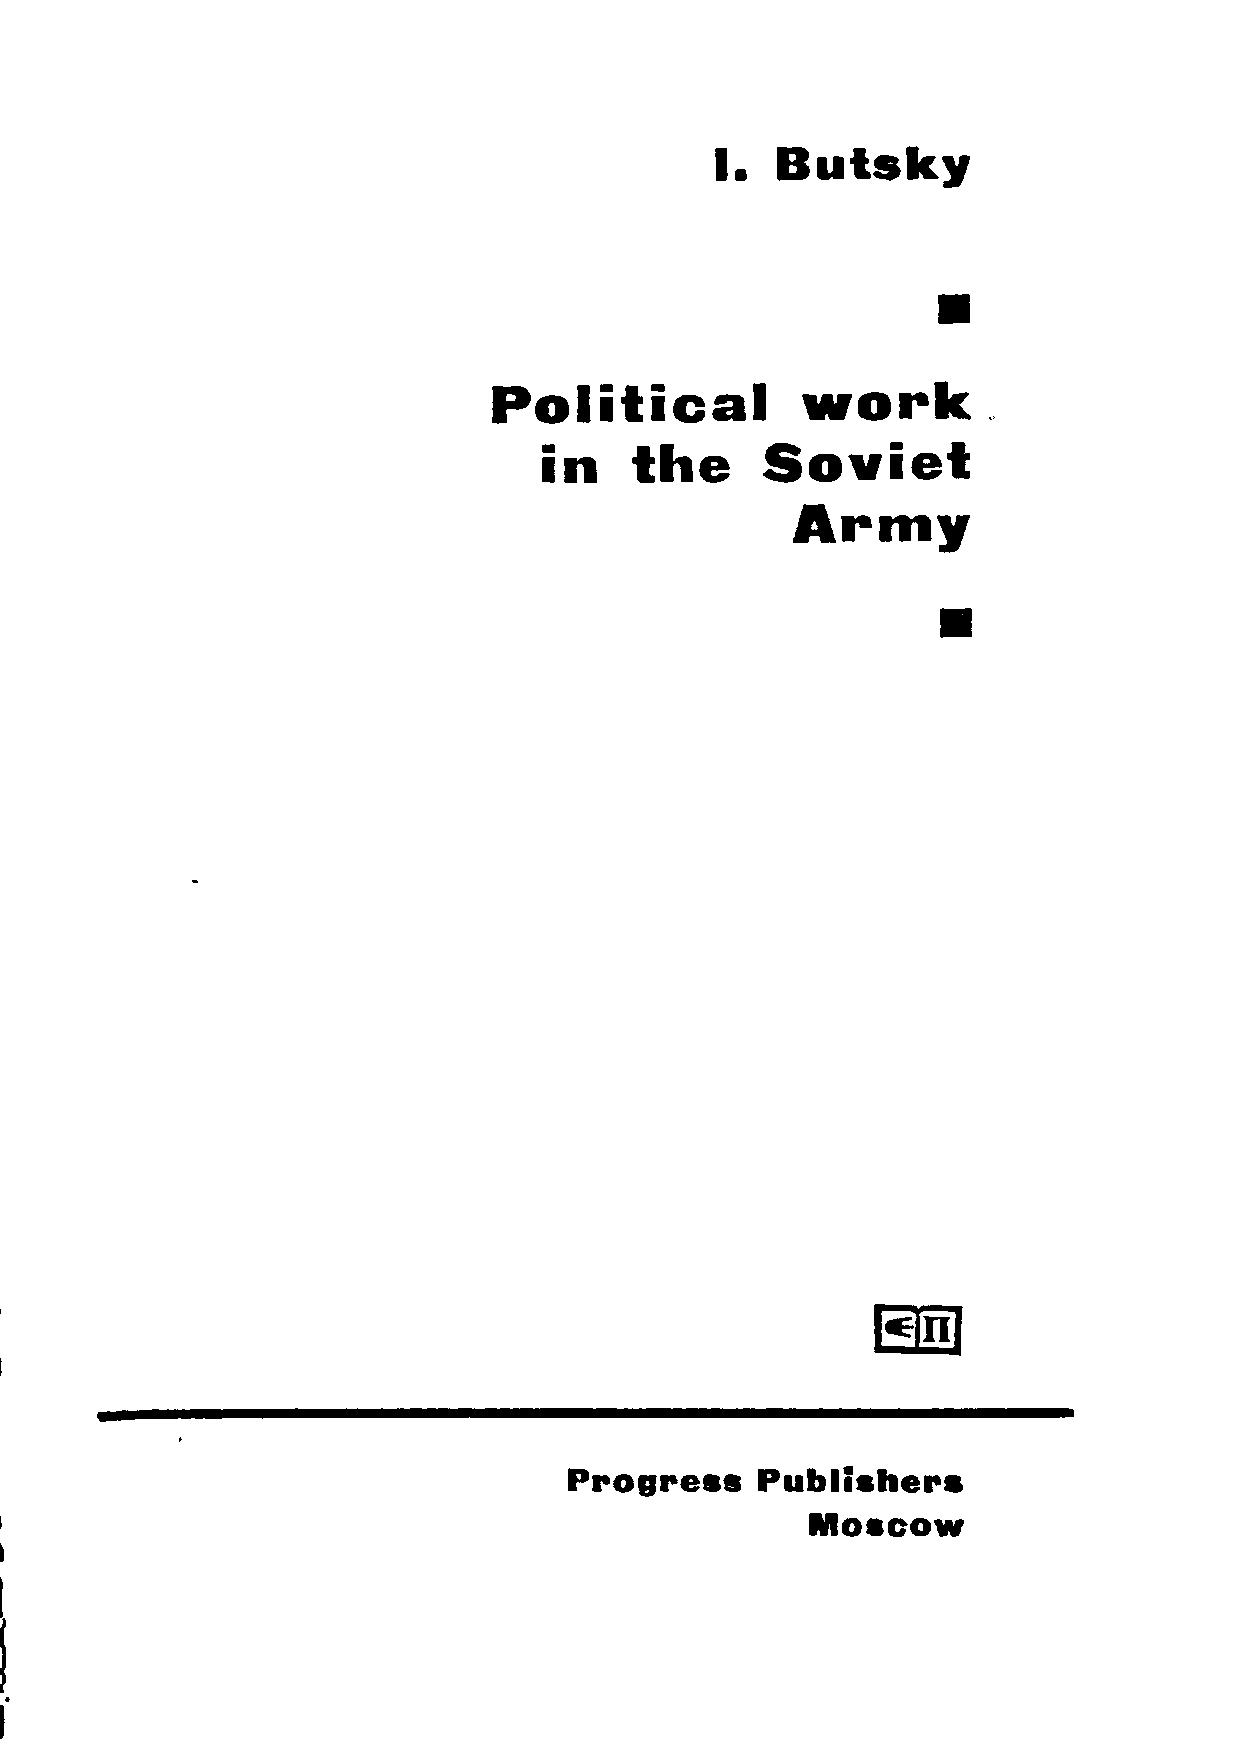author: (710, 142, 973, 191)
title: (486, 378, 972, 556)
